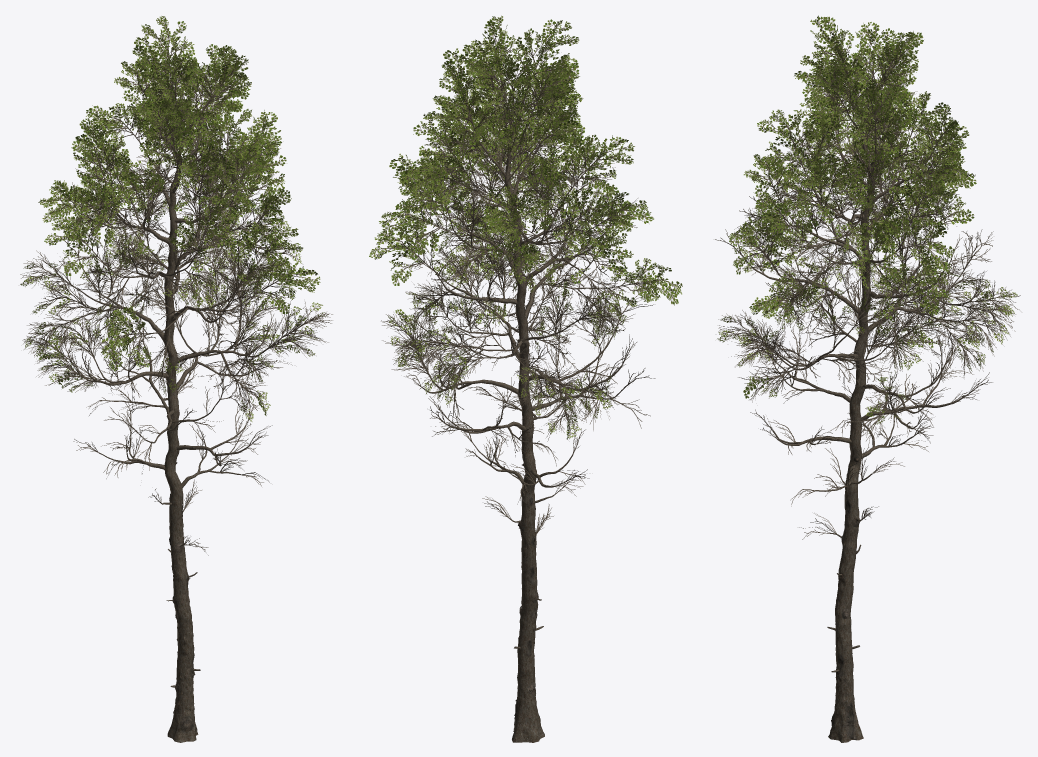
The model's file is SM_BlackAlder_Forest_01_PP_LOD2.gltf.
3 renders of one model, left to right at view 1: azimuth 30°, elevation 25°; view 2: azimuth 150°, elevation 25°; view 3: azimuth 270°, elevation 25°, orthographic. The views are drawn at different scales.
Visible parts, largest first — view 1: SM_BlackAlder_Forest_01_PP; view 2: SM_BlackAlder_Forest_01_PP; view 3: SM_BlackAlder_Forest_01_PP.
Part boxes in pixels (x1,y1,x2,y2): SM_BlackAlder_Forest_01_PP: (20,16,332,742); SM_BlackAlder_Forest_01_PP: (369,15,682,742); SM_BlackAlder_Forest_01_PP: (715,15,1020,742).
Size of the model in its own units: 8.17 by 20.9 by 8.26.
Materials: 3 (3 with a texture image).
